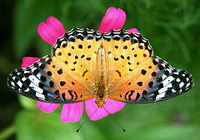Argyreus hyperbius: (3, 20, 195, 133)
butterfly: (5, 22, 197, 135)
